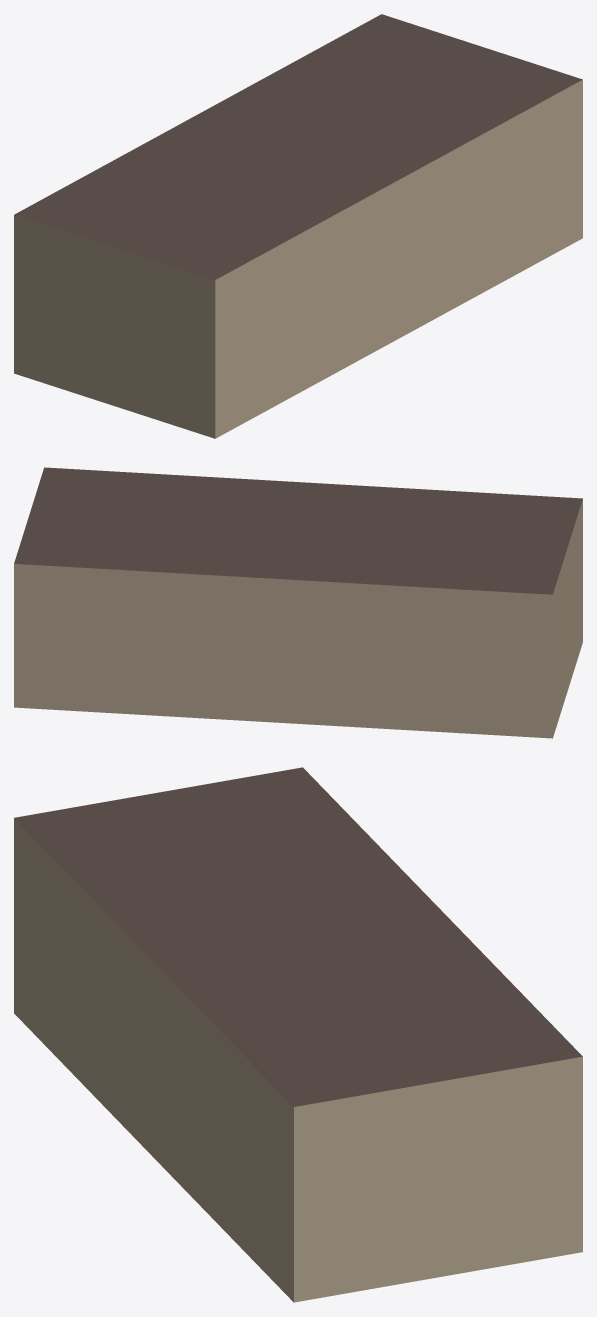
The picture shows the model from 3 angles, top to bottom: view 1: azimuth 30°, elevation 25°; view 2: azimuth 150°, elevation 25°; view 3: azimuth 270°, elevation 25°; orthographic projection. The views are drawn at different scales.
Parts seen in each view (by area): view 1: HP-w1287259387; view 2: HP-w1287259387; view 3: HP-w1287259387.
Part boxes in pixels (bbox=[...]): HP-w1287259387: bbox=[14, 14, 582, 438]; HP-w1287259387: bbox=[14, 467, 582, 738]; HP-w1287259387: bbox=[14, 767, 582, 1302].
Bounding box in the file's own units: 33.54 × 9 × 23.74.
